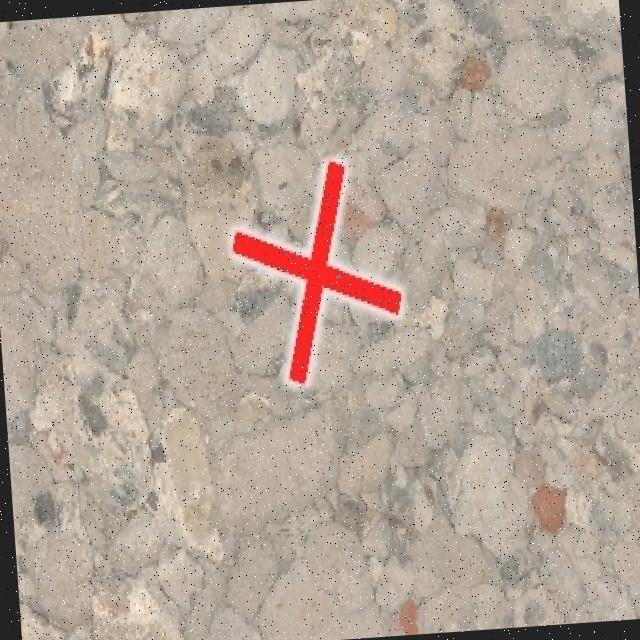x_marker: (226, 156, 405, 385)
